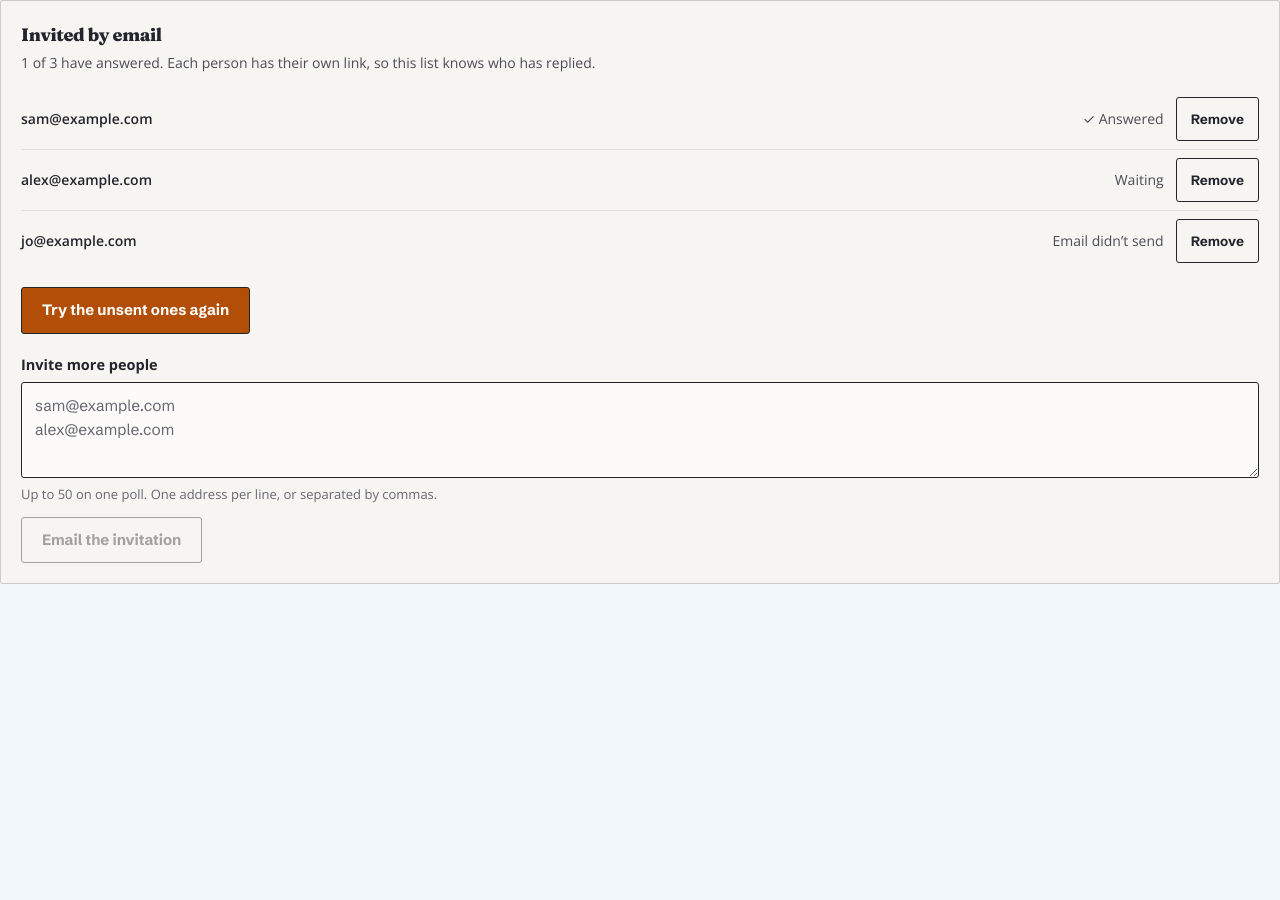
Scenario: InviteesSection › should say out loud when an invitation did not send
The image size is (1280, 900).
Click the button "Try the unsent ones again" at (136, 310), box [21,287,250,334]
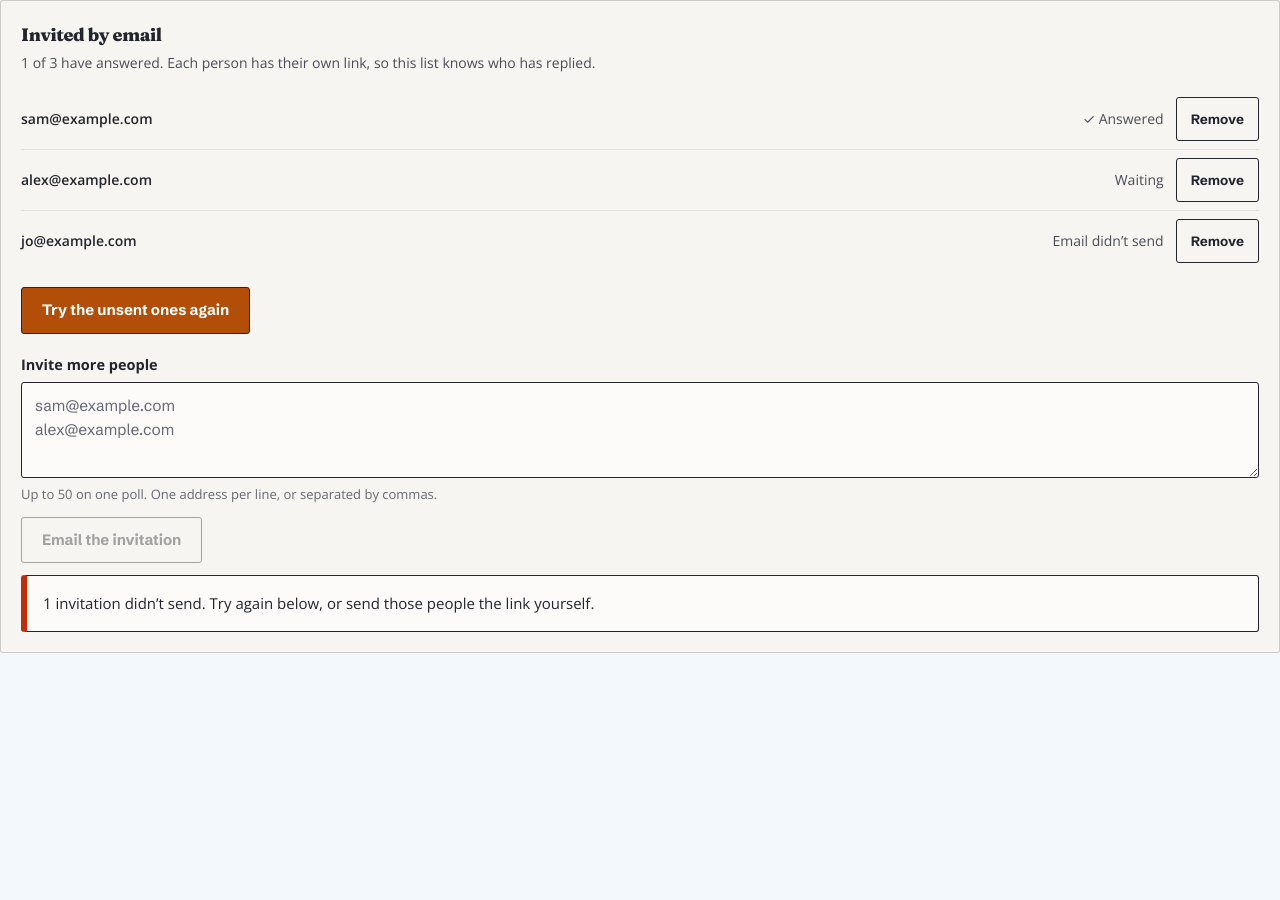
expect the message shows "1 invitation didn’t send": met, box [43,593,594,613]
